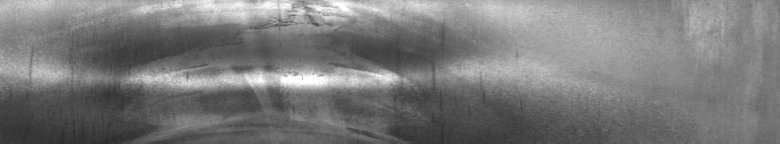ke: (42, 4, 488, 136)
